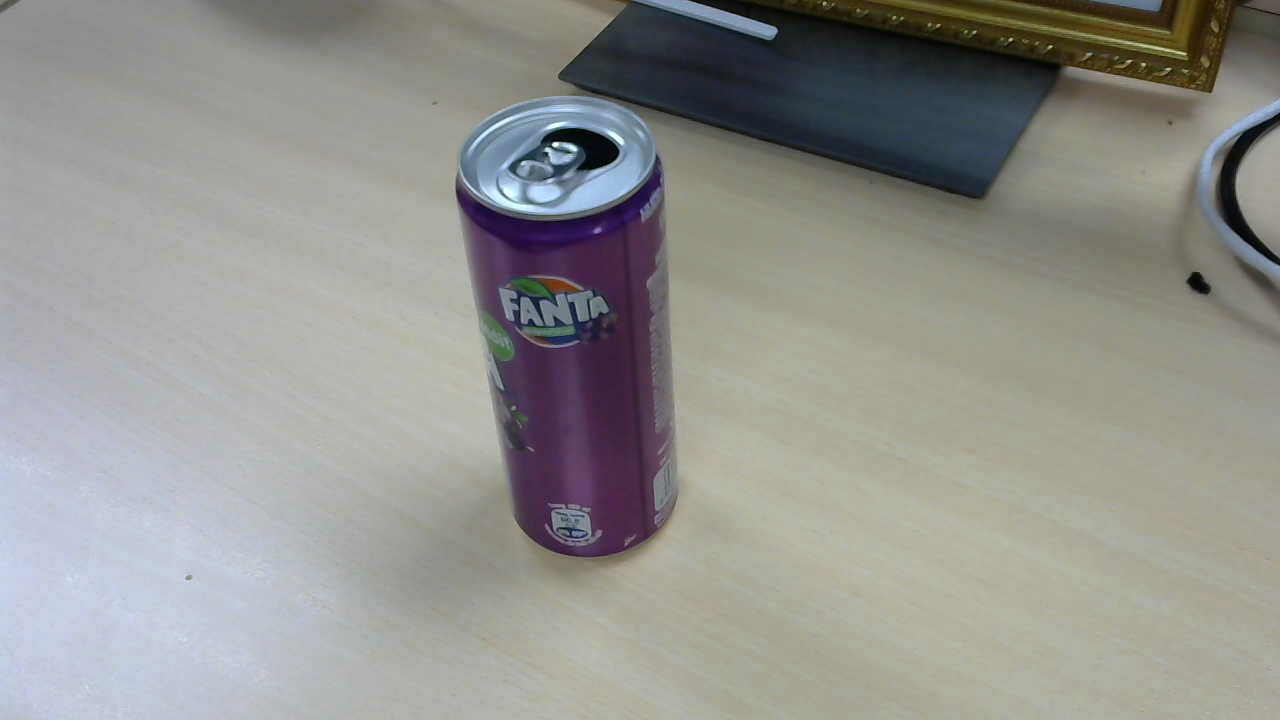Fanta: (459, 98, 690, 563)
